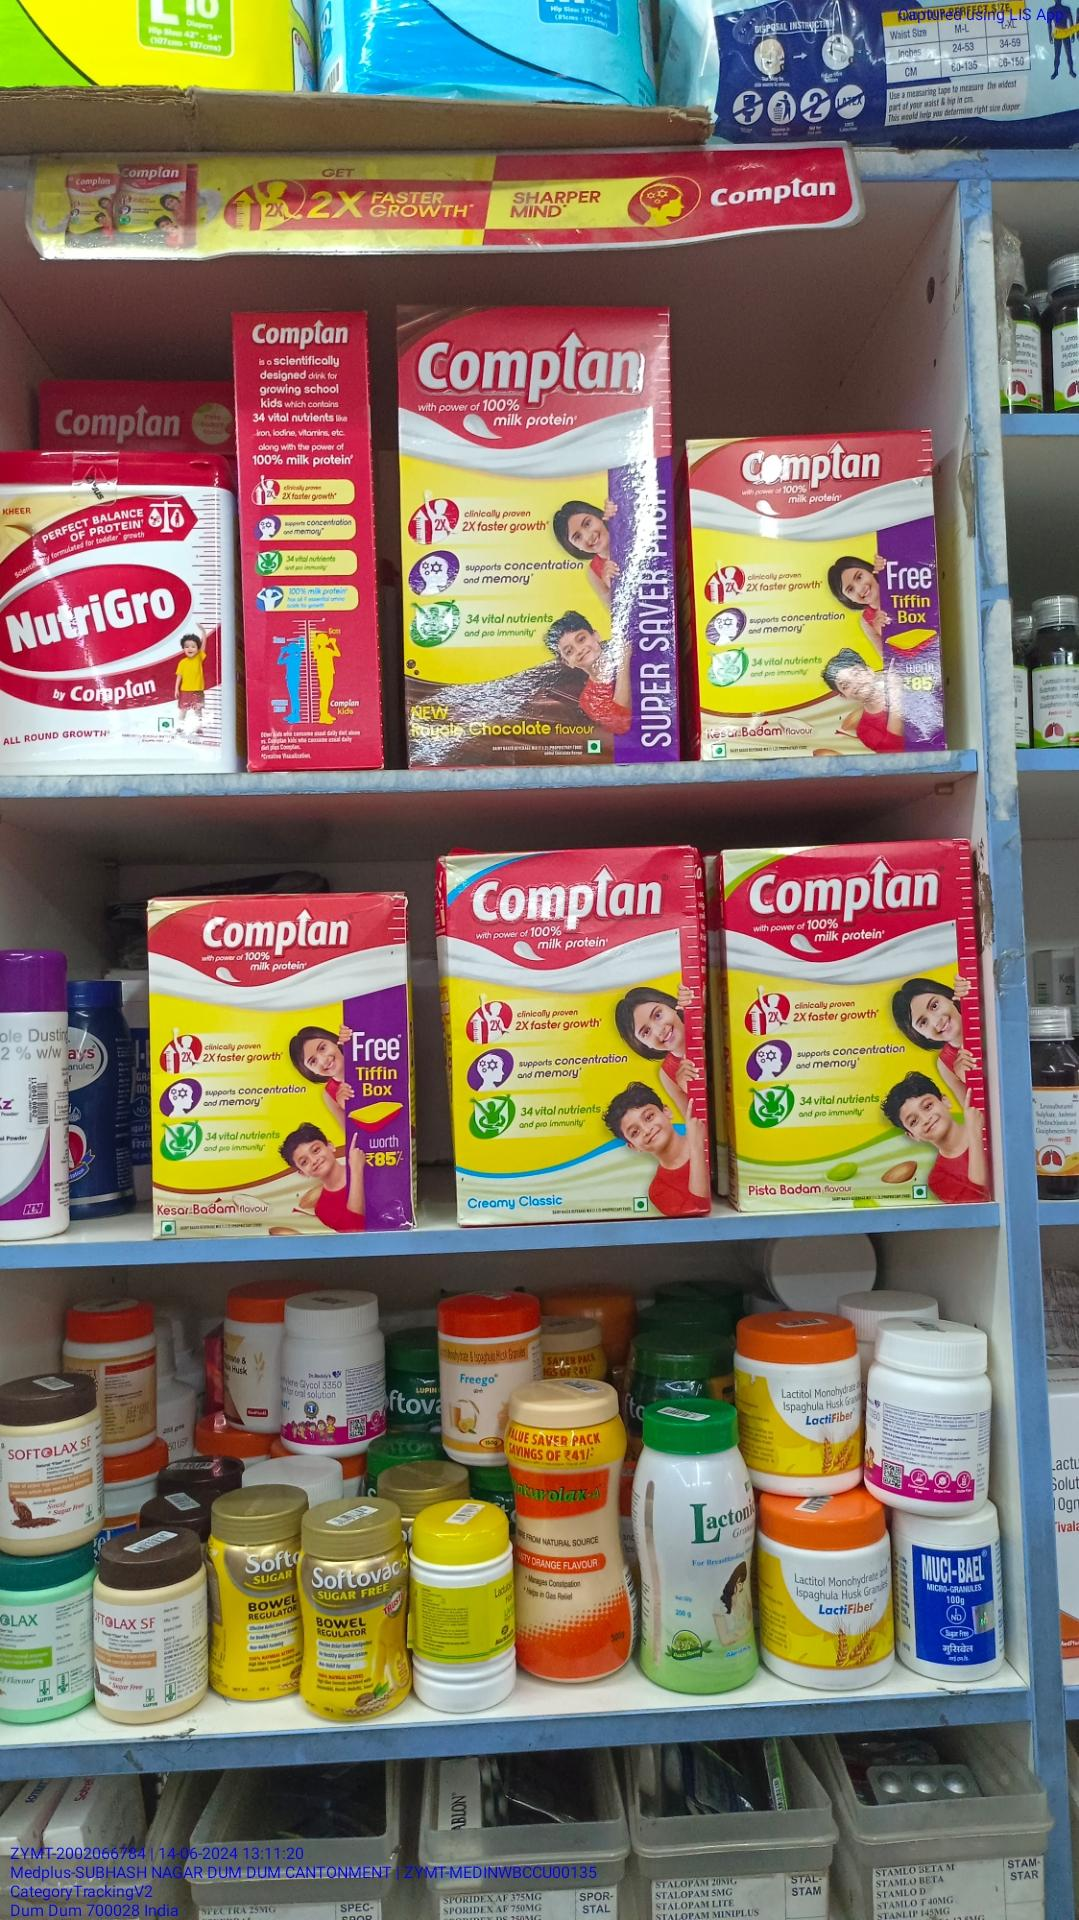COMPLAN_CHOCOLATE_1_KG_PACK: (396, 309, 682, 766)
COMPLAN_CREAMY_CLASSIC_500_G_PACK: (450, 856, 710, 1218)
COMPLAN_KESAR_BADAM_500_GMS_PACK: (148, 893, 419, 1237), (695, 442, 939, 753)
COMPLAN_PISTA_BADAM_500_GMS_PACK: (729, 847, 979, 1205)
